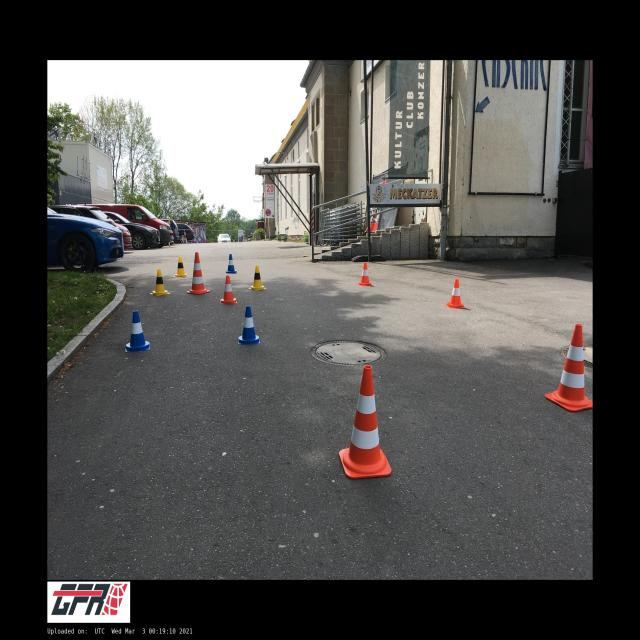blue_cone: (125, 310, 151, 352), (238, 305, 260, 345), (225, 254, 238, 274)
large_orange_cone: (339, 364, 391, 478), (545, 324, 593, 411), (186, 252, 210, 295)
orange_cone: (446, 279, 465, 308), (220, 275, 237, 304), (357, 262, 373, 286)
yellow_cone: (150, 269, 170, 296), (248, 266, 267, 290), (174, 256, 188, 277)
